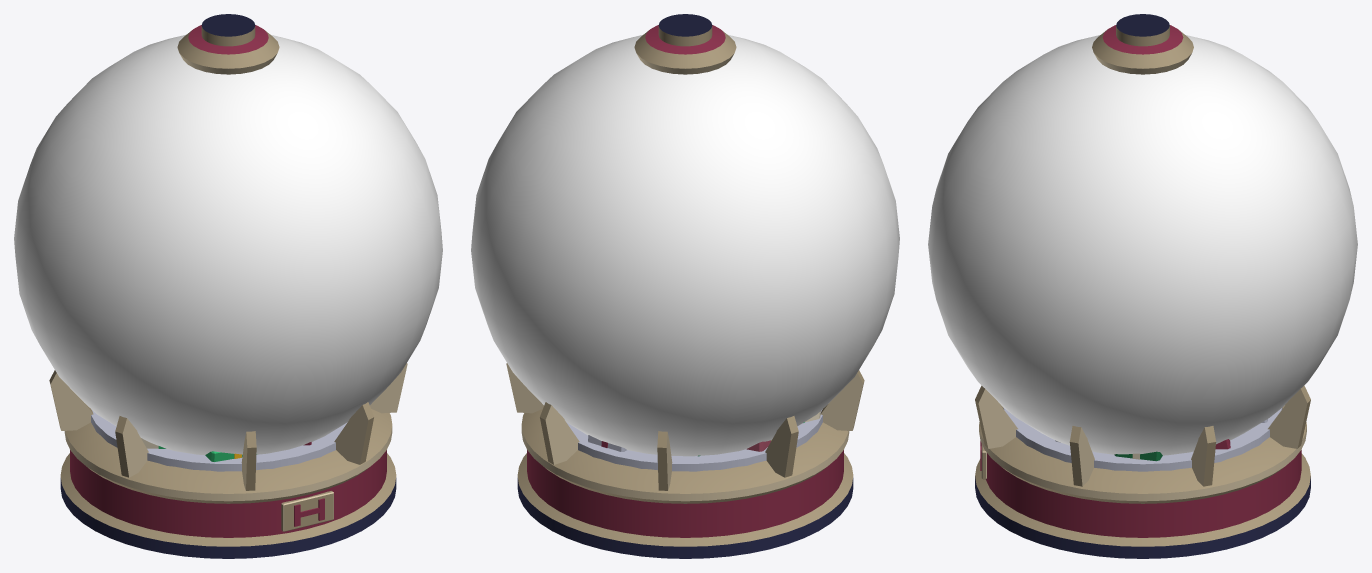
Rendered from Intro_SnowGlobe.fbx.
The picture shows the model from 3 angles, left to right: view 1: azimuth 30°, elevation 25°; view 2: azimuth 150°, elevation 25°; view 3: azimuth 270°, elevation 25°; orthographic projection.
Visible parts, largest first — view 1: Intro_SnowGlobe_Glass, Intro_SnowGlobe, Intro_SnowGlobe_Cap, Intro_SnowGlobe_Presents; view 2: Intro_SnowGlobe_Glass, Intro_SnowGlobe, Intro_SnowGlobe_Cap, Intro_SnowGlobe_Presents; view 3: Intro_SnowGlobe_Glass, Intro_SnowGlobe, Intro_SnowGlobe_Cap, Intro_SnowGlobe_Presents.
Boxes of the visible parts, x1=… form: Intro_SnowGlobe_Glass: x1=14, y1=35, x2=442, y2=455; Intro_SnowGlobe: x1=49, y1=363, x2=407, y2=558; Intro_SnowGlobe_Cap: x1=177, y1=14, x2=279, y2=74; Intro_SnowGlobe_Presents: x1=91, y1=409, x2=347, y2=471; Intro_SnowGlobe_Glass: x1=471, y1=35, x2=899, y2=456; Intro_SnowGlobe: x1=506, y1=363, x2=864, y2=558; Intro_SnowGlobe_Cap: x1=634, y1=14, x2=736, y2=74; Intro_SnowGlobe_Presents: x1=566, y1=409, x2=822, y2=471; Intro_SnowGlobe_Glass: x1=928, y1=35, x2=1357, y2=455; Intro_SnowGlobe: x1=975, y1=385, x2=1310, y2=558; Intro_SnowGlobe_Cap: x1=1092, y1=14, x2=1193, y2=74; Intro_SnowGlobe_Presents: x1=1003, y1=408, x2=1282, y2=471.
Size of the model in its own units: 32 by 38 by 32.
Materials: 1 (1 with a texture image).
